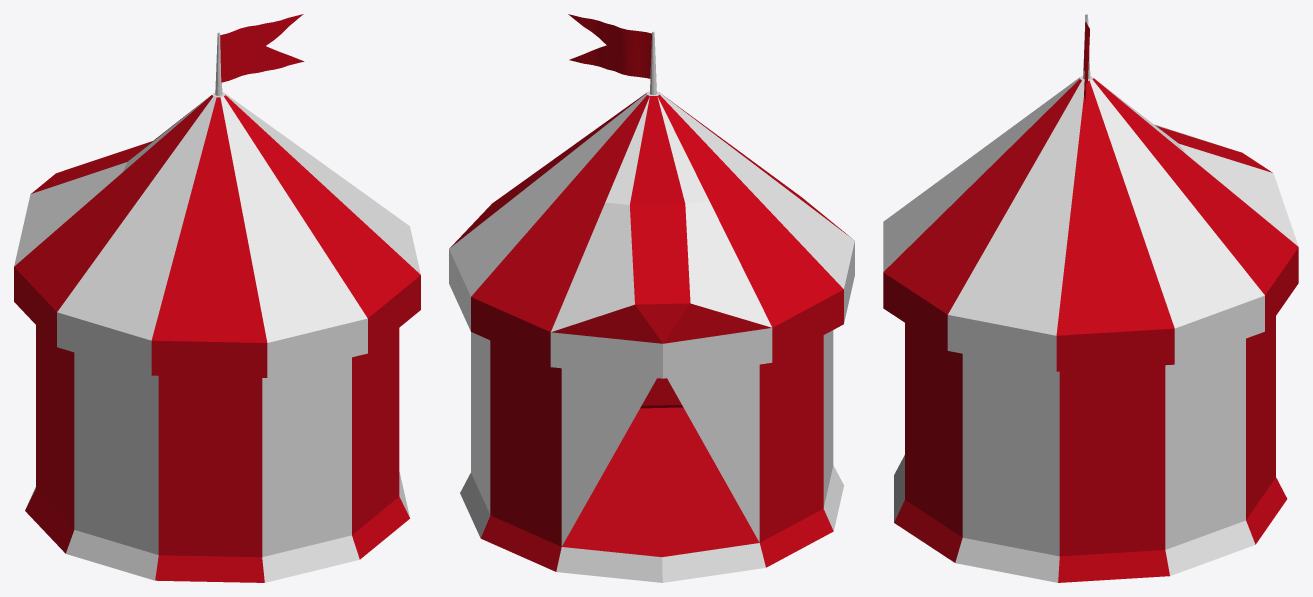
Rendered from circus2.fbx.
3 views of the same model, side by side, from view 1: azimuth 30°, elevation 25°; view 2: azimuth 150°, elevation 25°; view 3: azimuth 270°, elevation 25° (orthographic). The views are drawn at different scales.
Parts seen in each view (by area): view 1: Circus2; view 2: Circus2; view 3: Circus2.
Boxes of the visible parts, <box> form: Circus2: <box>14,14,420,582</box>; Circus2: <box>449,14,854,582</box>; Circus2: <box>883,14,1298,582</box>.
Size of the model in its own units: 253 by 323 by 251.
